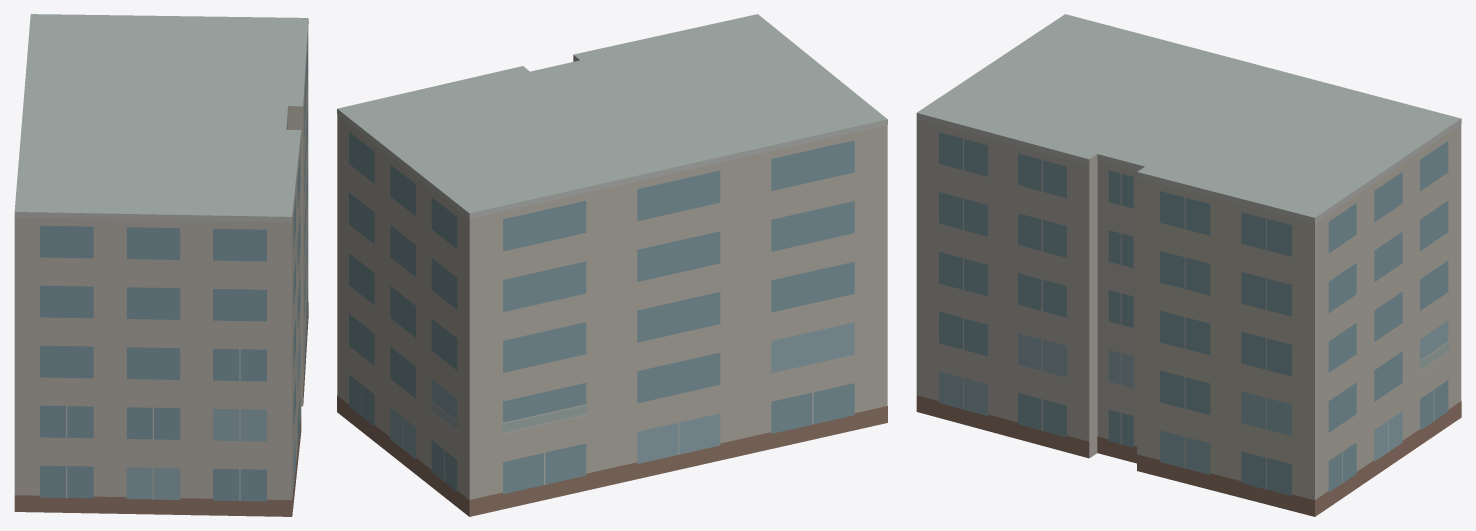
The model's file is survey-upis-32670097.glb.
3 renders of one model, left to right at view 1: azimuth 30°, elevation 25°; view 2: azimuth 150°, elevation 25°; view 3: azimuth 270°, elevation 25°, orthographic.
Parts seen in each view (by area): view 1: survey-upis-32670097.tmp; view 2: survey-upis-32670097.tmp; view 3: survey-upis-32670097.tmp.
Part boxes in pixels (x1,y1,x2,y2): survey-upis-32670097.tmp: (14,14,308,516); survey-upis-32670097.tmp: (337,14,887,516); survey-upis-32670097.tmp: (916,14,1461,516).
Bounding box in the file's own units: 19.18 × 13.11 × 21.66.
